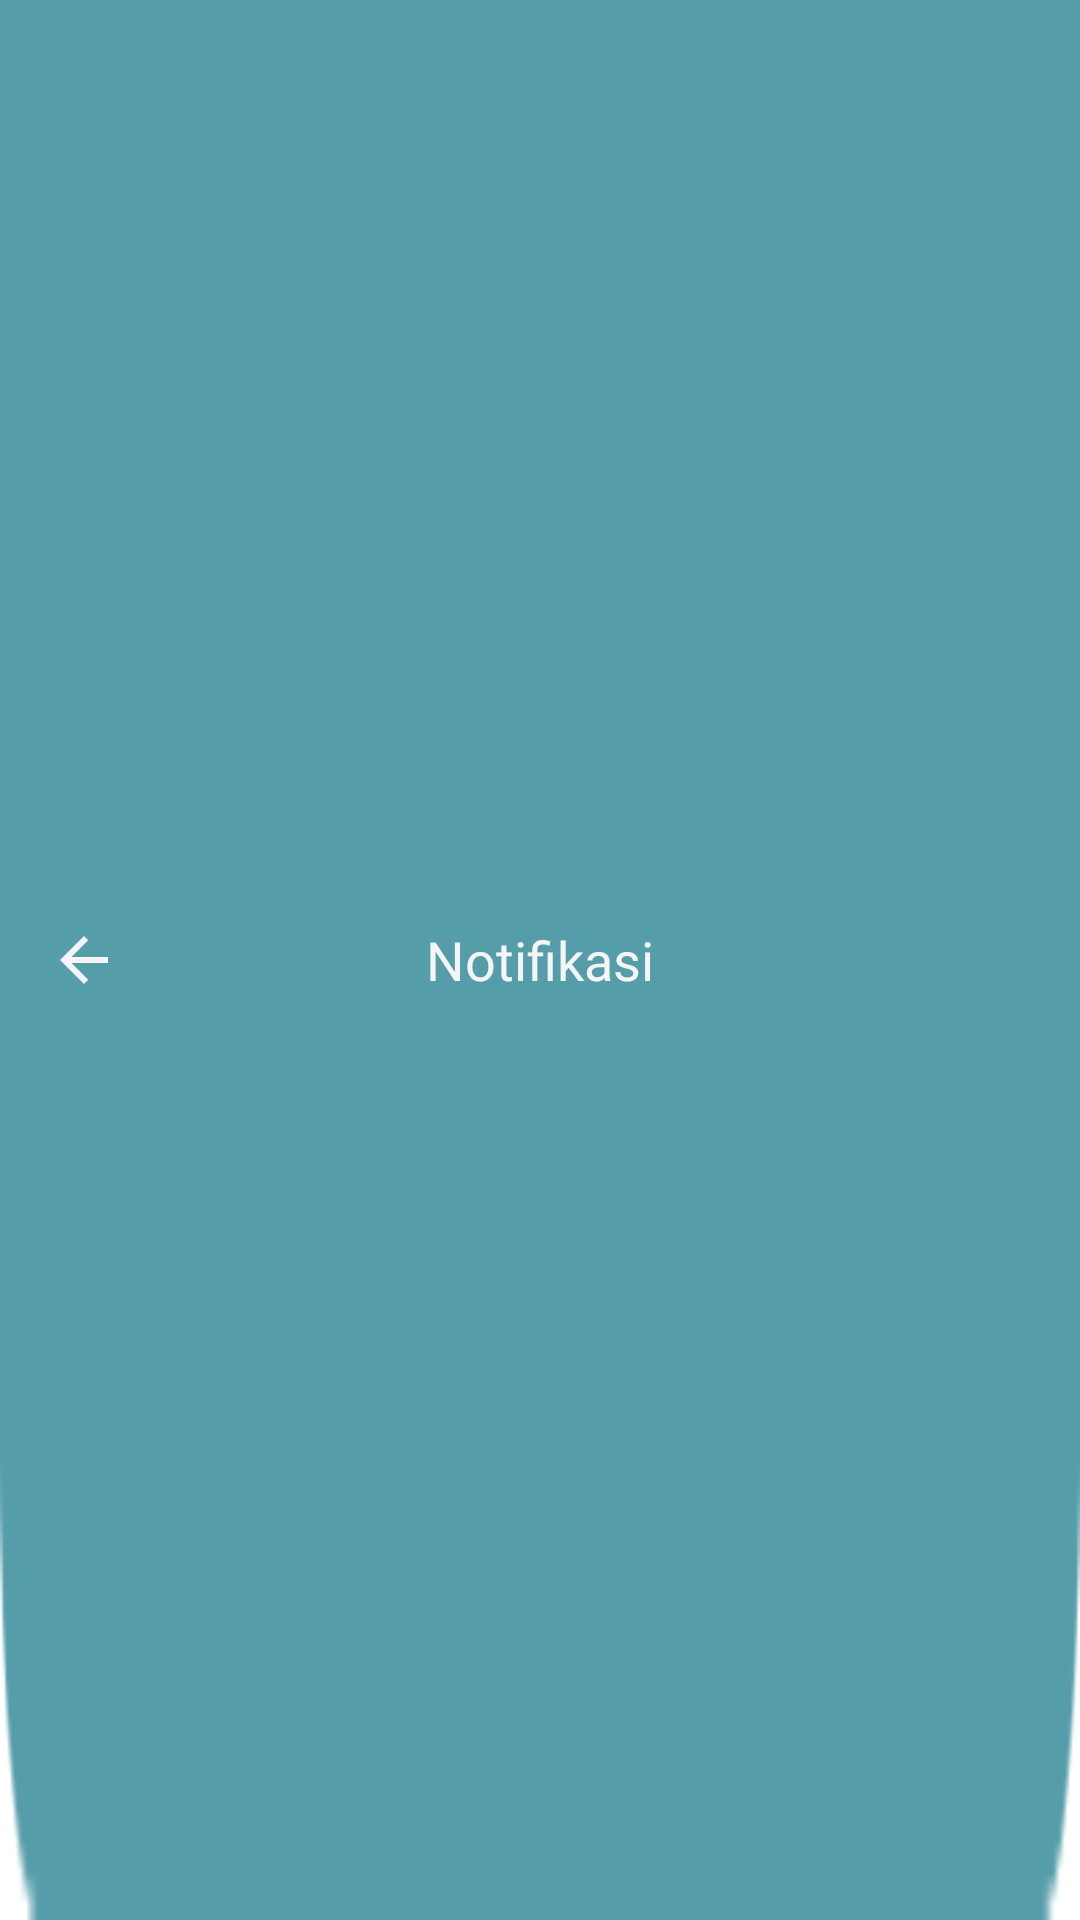

Screen size 1080×1920. Icon name, then its box in pixels as {"left": x1, "top": y1, "right": x2, "bottom": y2}:
arrow back: {"left": 60, "top": 936, "right": 108, "bottom": 984}
